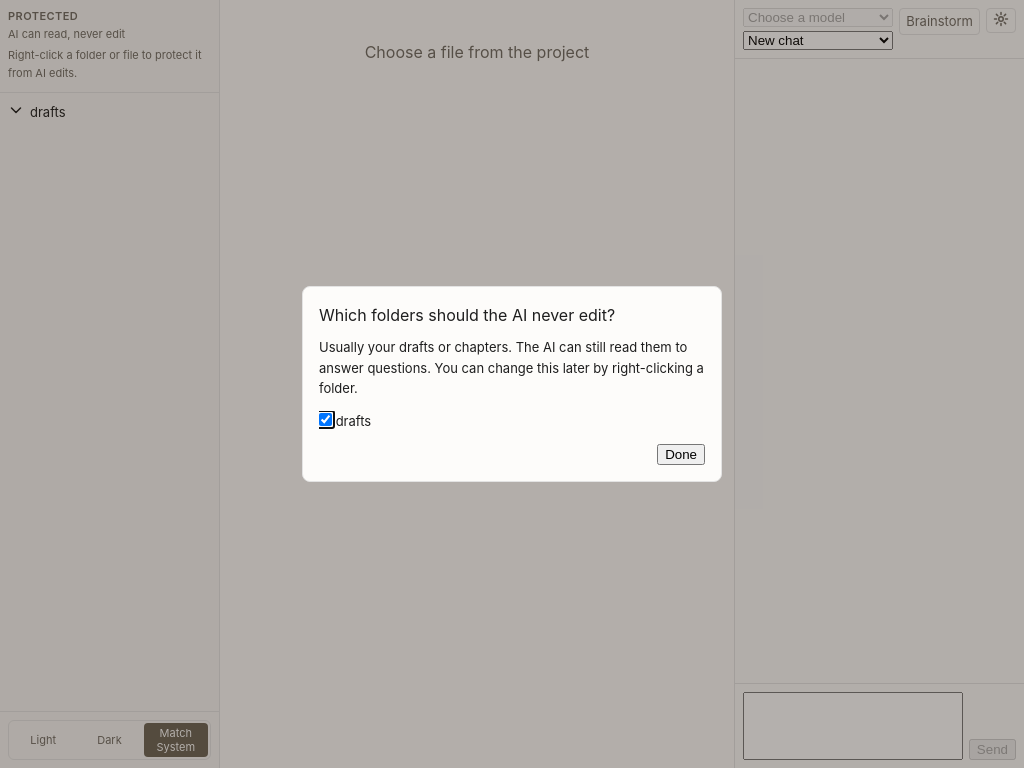
asks which folders to protect when the project has no settings
Expected: the dialog is shown, [302,286,722,482]
Expected: the checkbox labelled "drafts" is checked, [319,413,332,426]
Click the button "Done" at [681, 454], box [657,444,705,465]
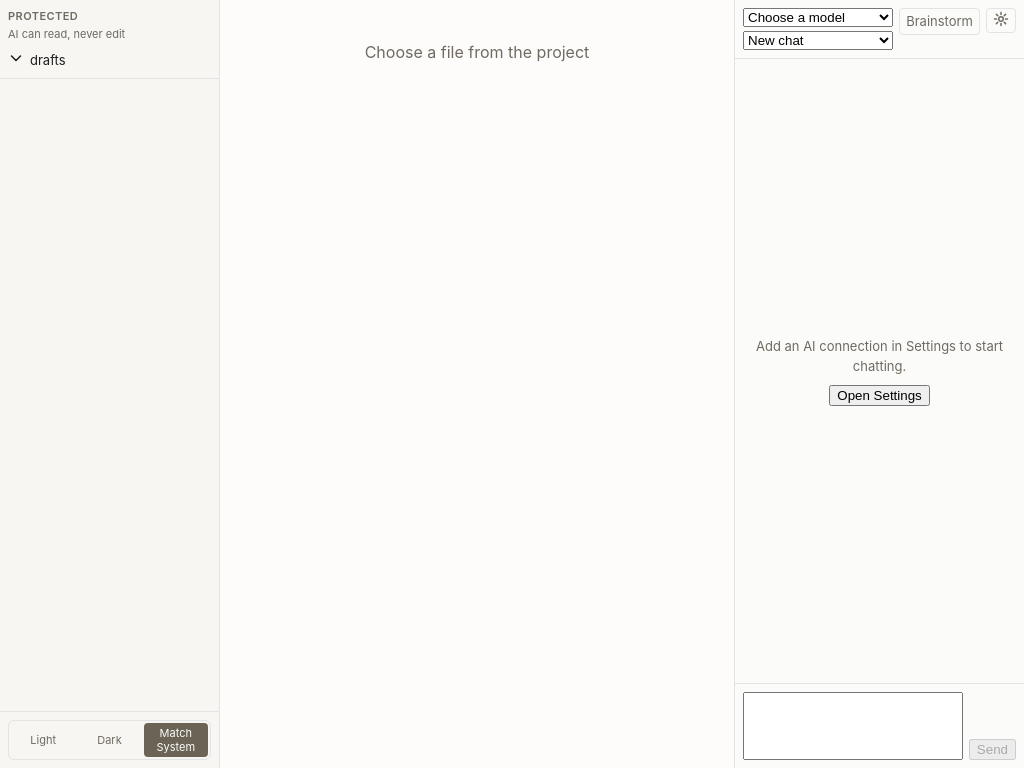
Now the dialog is gone
